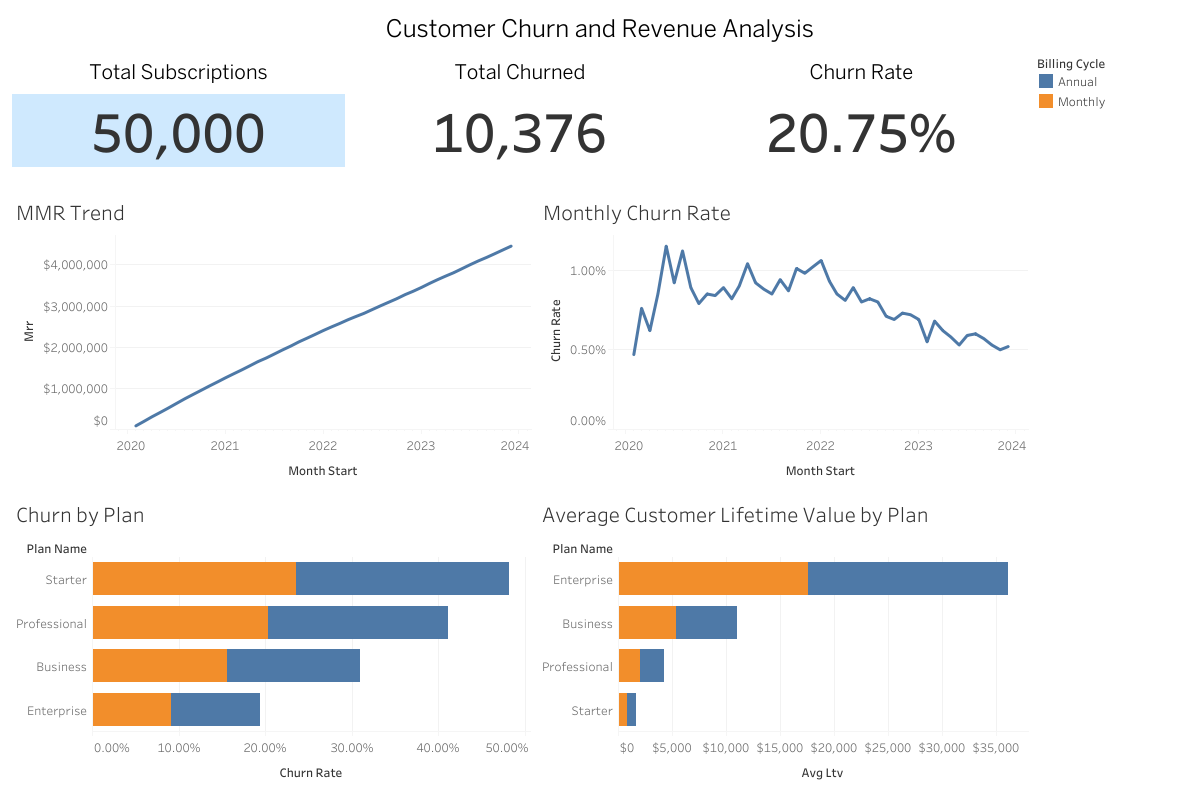

The page's visual inventory and layout, read from the dashboard file:
{"tool":"tableau","page":{"name":"Churn and Revenue Dashboard","canvas":[1200,800],"ordinal":0},"visuals":[{"type":"title","box":[8,8,1184,39]},{"type":"worksheet","title":"Total Subscriptions","mark":"Automatic","box":[8,47,341.3,140.6]},{"type":"worksheet","title":"Total Churned","mark":"Automatic","box":[349.3,47,341.3,140.6]},{"type":"worksheet","title":"Churn Rate","mark":"Automatic","box":[690.7,47,341.3,140.6]},{"type":"legend","title":"Churn by Plan","param":"[federated.119xocp0suvj8z1cn80yu0vnble3].[none:billing_cycle:nk]","box":[1032,47,160,66]},{"type":"worksheet","title":"MMR Trend","mark":"Automatic","rows":["mrr"],"cols":["month_start"],"box":[8,187.6,526.5,302.2]},{"type":"worksheet","title":"Monthly Churn Rate","mark":"Line","rows":["churn_rate"],"cols":["month_start"],"box":[534.5,187.6,497.5,302.2]},{"type":"worksheet","title":"Churn by Plan","mark":"Bar","rows":["plan_name"],"cols":["churn_rate"],"box":[8,489.8,526,302.2]},{"type":"worksheet","title":"Average Customer Lifetime Value by Plan","mark":"Bar","rows":["plan_name"],"cols":["avg_ltv"],"box":[534,489.8,498,302.2]}]}

Visuals, with their boxes in screenshot pixels (x1, y1, x2, y2), scaled from the page's 1200x800 canvas onto the 1199x799 screenshot:
title: {"x1": 8, "y1": 8, "x2": 1191, "y2": 47}
"Total Subscriptions" worksheet: {"x1": 8, "y1": 47, "x2": 349, "y2": 187}
"Total Churned" worksheet: {"x1": 349, "y1": 47, "x2": 690, "y2": 187}
"Churn Rate" worksheet: {"x1": 690, "y1": 47, "x2": 1031, "y2": 187}
"Churn by Plan" legend: {"x1": 1031, "y1": 47, "x2": 1191, "y2": 113}
"MMR Trend" worksheet: {"x1": 8, "y1": 187, "x2": 534, "y2": 489}
"Monthly Churn Rate" worksheet (Line marks): {"x1": 534, "y1": 187, "x2": 1031, "y2": 489}
"Churn by Plan" worksheet (Bar marks): {"x1": 8, "y1": 489, "x2": 534, "y2": 791}
"Average Customer Lifetime Value by Plan" worksheet (Bar marks): {"x1": 534, "y1": 489, "x2": 1031, "y2": 791}
